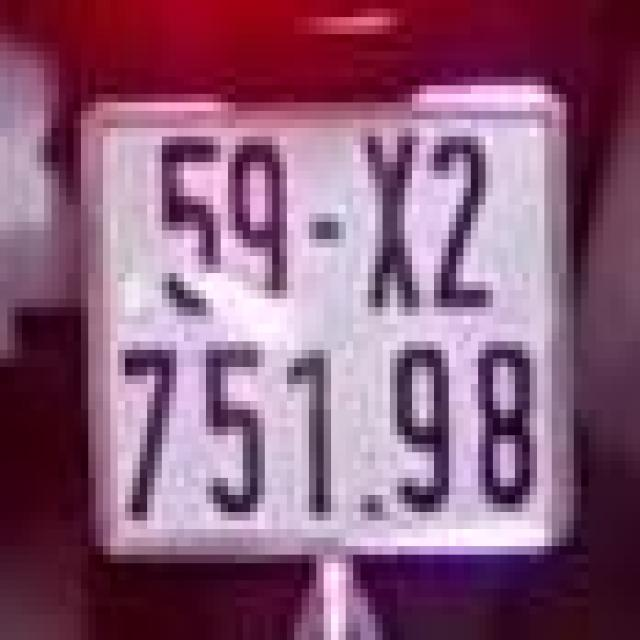1: (287, 332, 346, 538)
2: (430, 132, 504, 320)
5: (191, 333, 272, 529), (147, 128, 228, 324)
7: (103, 341, 191, 529)
8: (467, 337, 548, 533)
9: (375, 333, 464, 520), (224, 124, 298, 320)
X: (342, 115, 423, 320)
